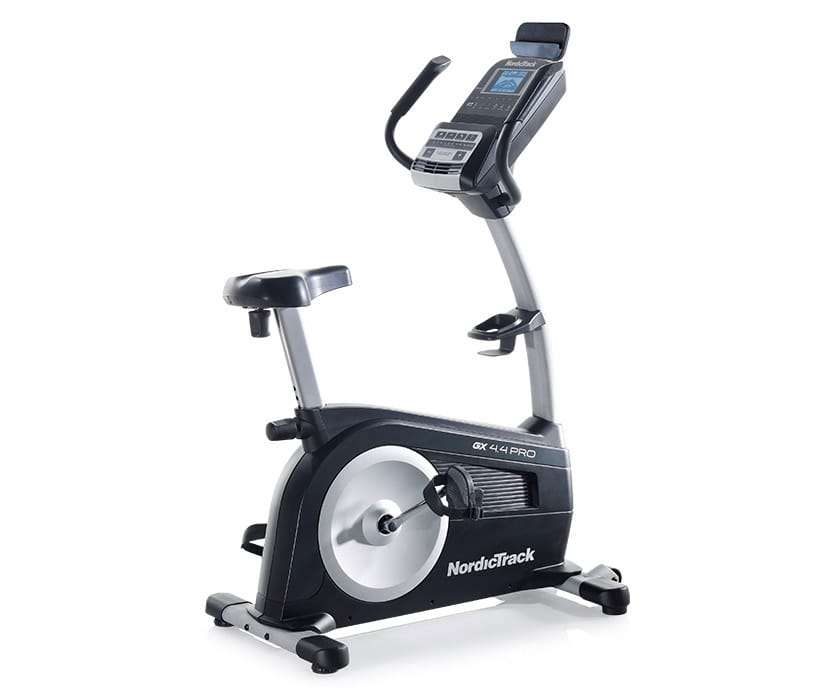gym_bike: (181, 19, 638, 679)
